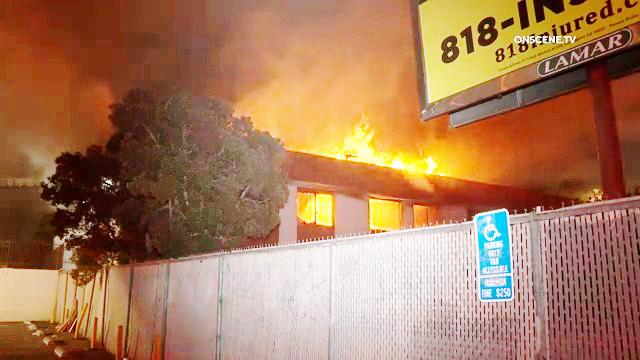fire: (338, 115, 376, 164), (374, 155, 434, 176)
